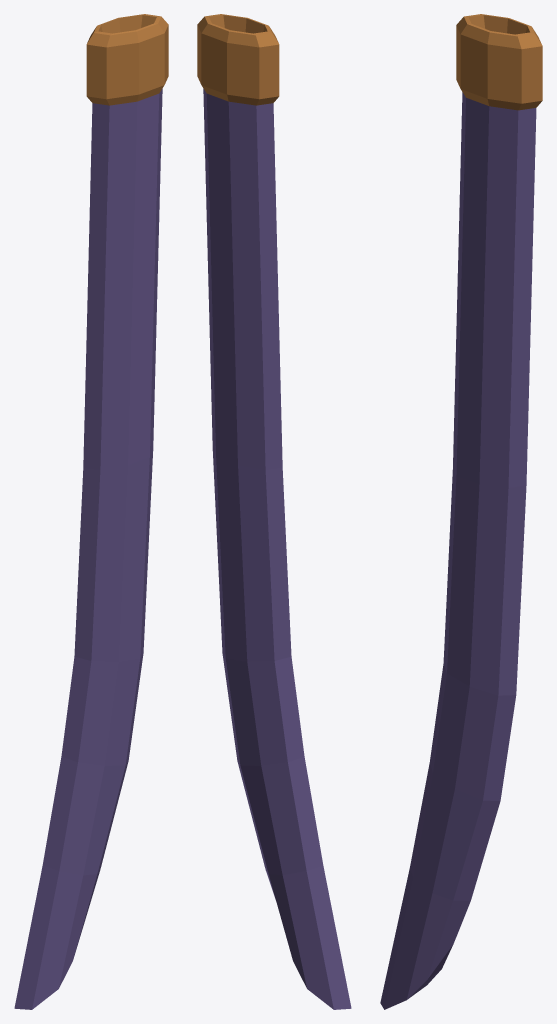
Rendered from SM_pwe_china_sword_scabbard_02.fbx.
The picture shows the model from 3 angles, left to right: view 1: azimuth 30°, elevation 25°; view 2: azimuth 150°, elevation 25°; view 3: azimuth 330°, elevation 25°; orthographic projection. The views are drawn at different scales.
Parts seen in each view (by area): view 1: SM_pwe_china_sword_scabbard_02; view 2: SM_pwe_china_sword_scabbard_02; view 3: SM_pwe_china_sword_scabbard_02.
Part boxes in pixels (box(x1,y1,x2,y2)): SM_pwe_china_sword_scabbard_02: box(14, 14, 168, 1009); SM_pwe_china_sword_scabbard_02: box(197, 14, 351, 1009); SM_pwe_china_sword_scabbard_02: box(380, 14, 542, 1009).
Bounding box in the file's own units: 9.13 × 54.13 × 2.32.
